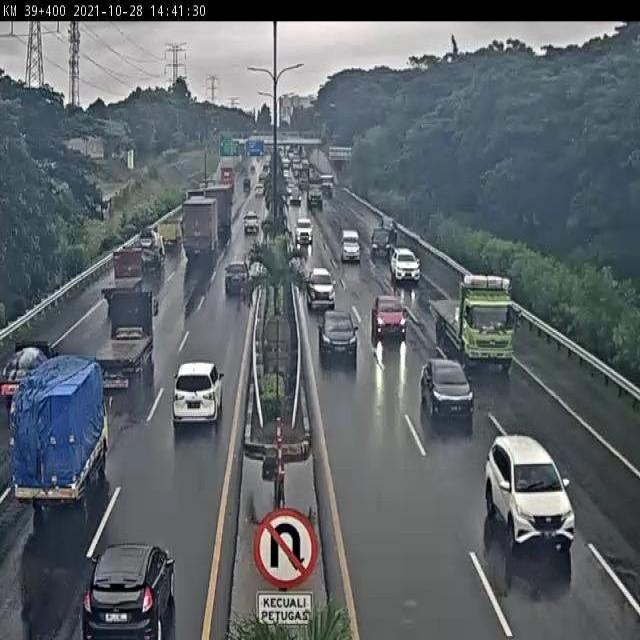car: (485, 435, 575, 549), (81, 541, 176, 640), (171, 361, 223, 428), (420, 359, 473, 420), (319, 309, 358, 362), (370, 295, 407, 344), (306, 268, 335, 309), (391, 247, 421, 280), (224, 260, 250, 293), (340, 230, 360, 262), (371, 228, 390, 253)
mid truck: (182, 196, 219, 255)
small truck: (157, 217, 183, 248)
truck-l-: (428, 273, 515, 372)
truck-m-: (11, 357, 110, 511), (93, 289, 155, 392), (101, 248, 144, 299), (133, 228, 166, 276)
